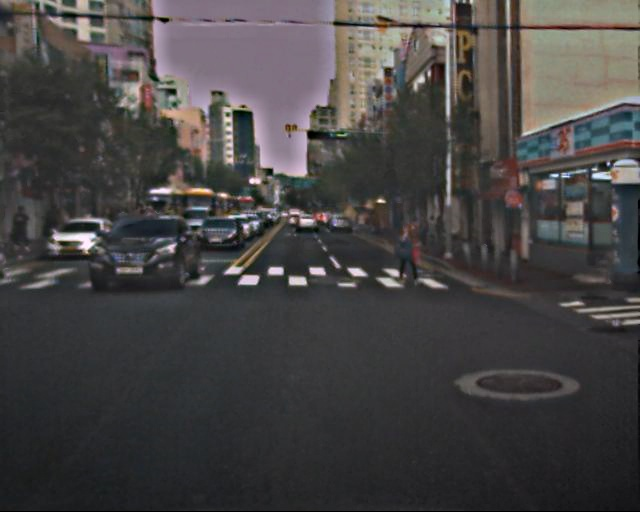person: (391, 223, 424, 287), (414, 219, 442, 247)
